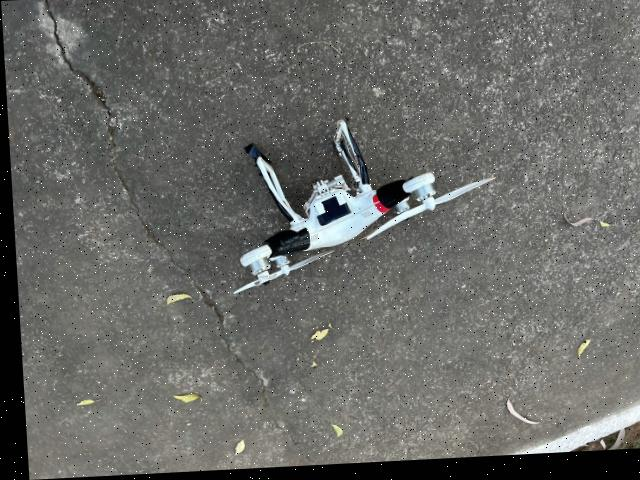drone: (164, 93, 529, 320)
